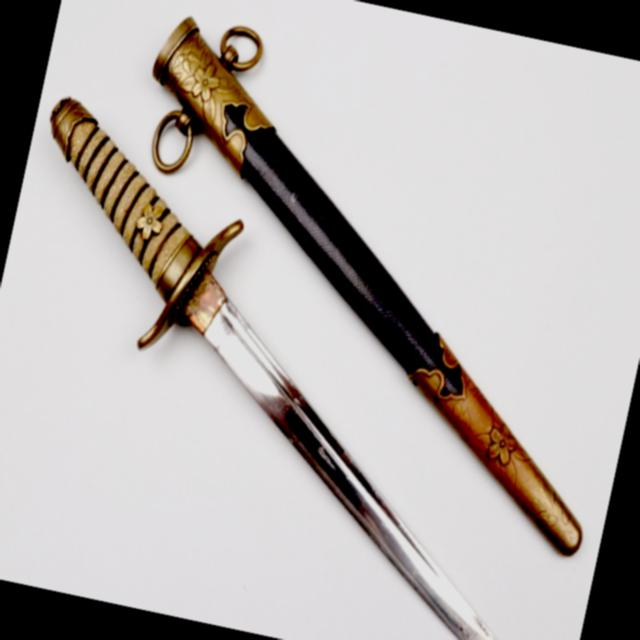short sword: (0, 75, 624, 640)
